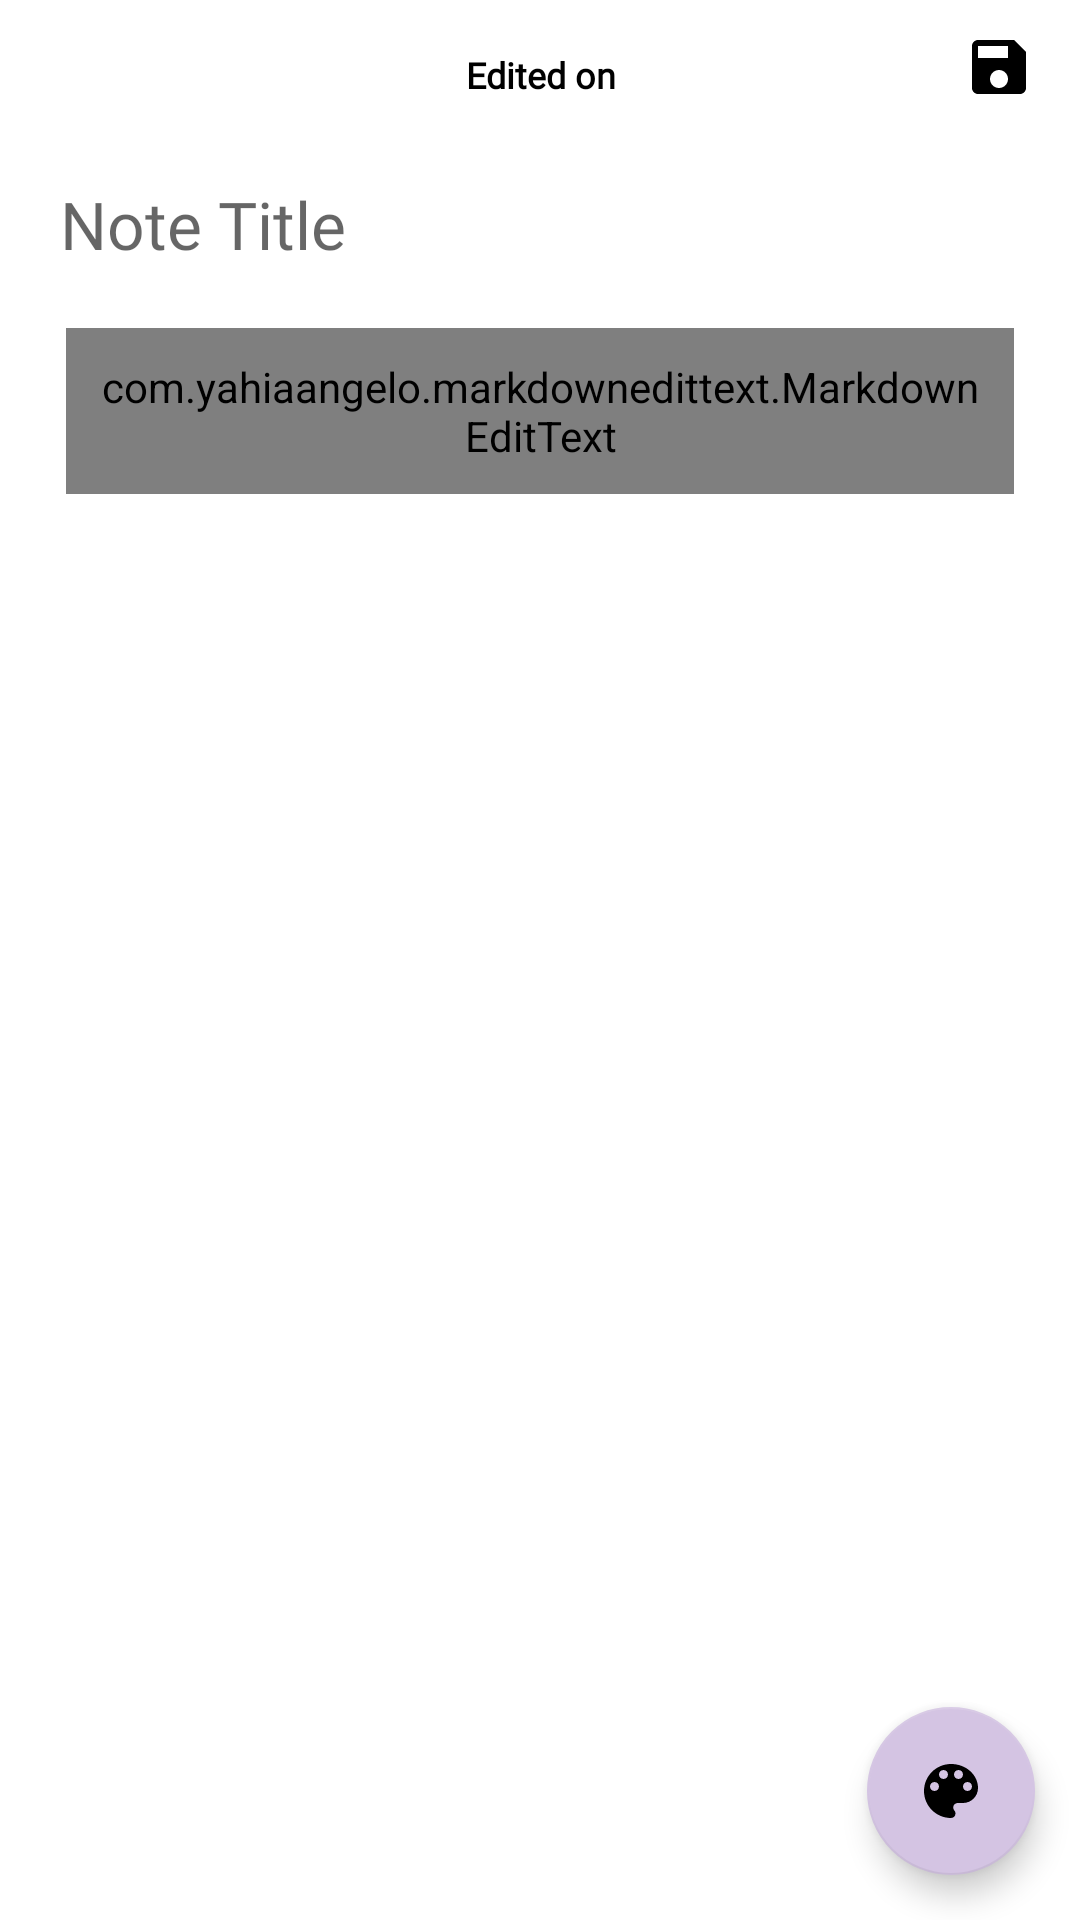

Screen size 1080×1920. Icon name, then its center in pixels as (x,y):
save: (999,67)
